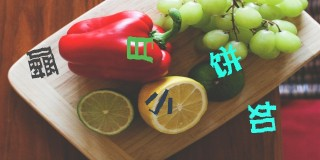嚼: (24, 46, 59, 81)
如: (246, 100, 277, 134)
小: (141, 86, 176, 118)
月: (126, 34, 154, 66)
饼: (208, 41, 244, 78)
